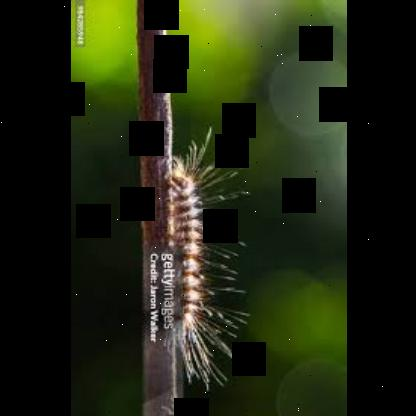oruga: (160, 126, 247, 392)
